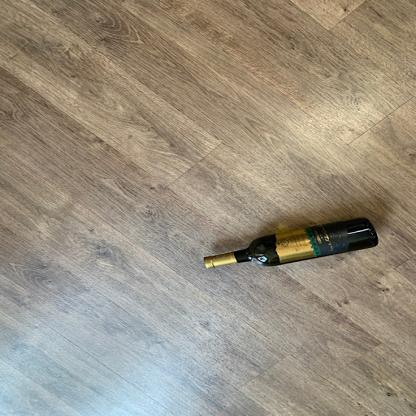trash: (200, 218, 378, 272)
